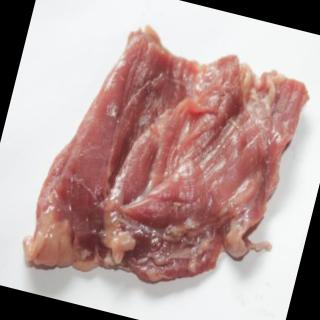Daging Sapi: (19, 10, 315, 320)
